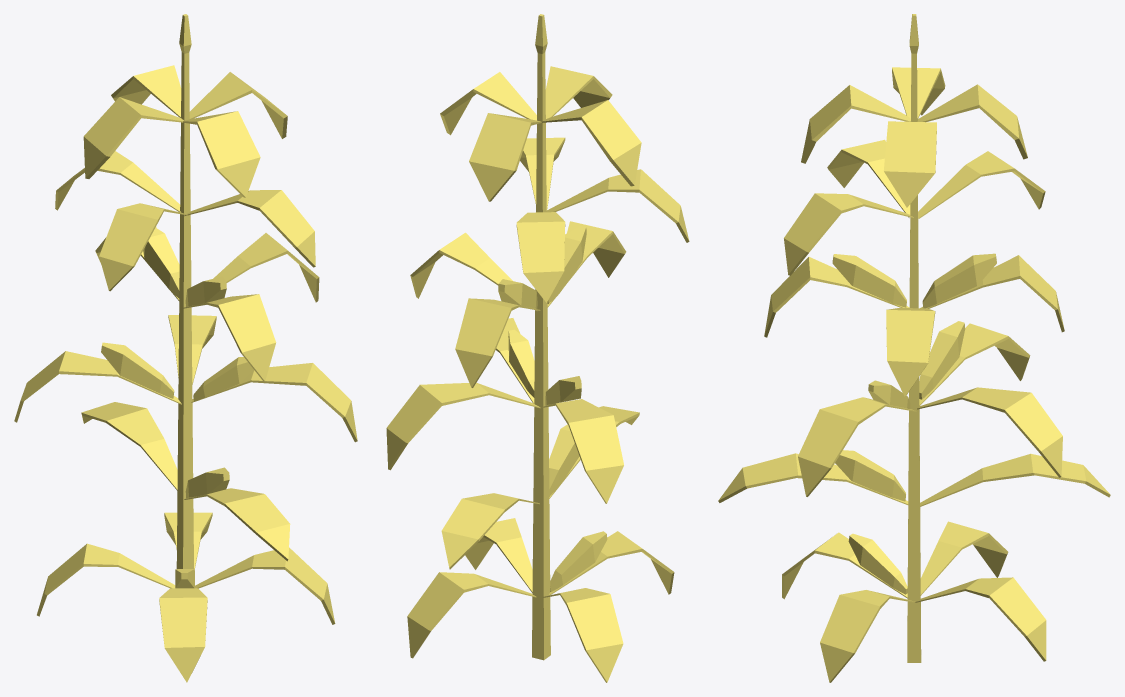
The model's file is fruit_seed.glb.
3 views of the same model, side by side, from view 1: azimuth 30°, elevation 25°; view 2: azimuth 150°, elevation 25°; view 3: azimuth 270°, elevation 25° (orthographic).
Visible parts, largest first — view 1: Corn_2; view 2: Corn_2; view 3: Corn_2.
Boxes of the visible parts, x1=… form: Corn_2: x1=14, y1=14, x2=357, y2=682; Corn_2: x1=386, y1=14, x2=689, y2=682; Corn_2: x1=718, y1=14, x2=1110, y2=682.
Bounding box in the file's own units: 66.43 × 160 × 88.29.
